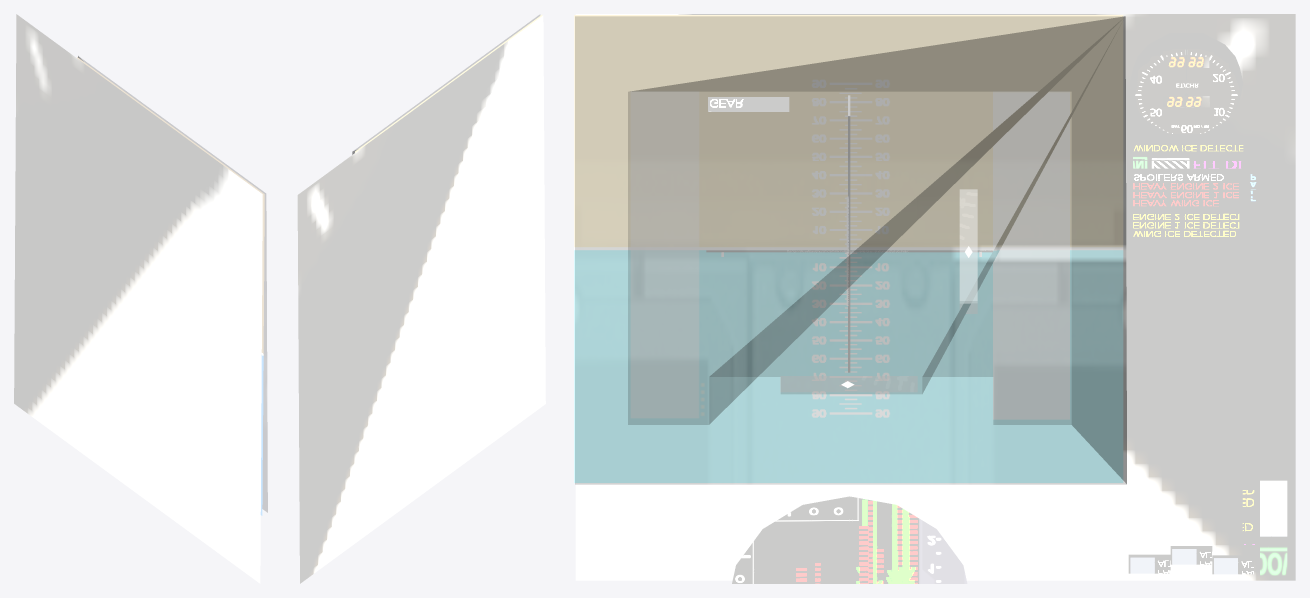
The model's file is pfd2.glb.
3 views of the same model, side by side, from view 1: azimuth 30°, elevation 25°; view 2: azimuth 150°, elevation 25°; view 3: azimuth 270°, elevation 25° (orthographic). The views are drawn at different scales.
Parts seen in each view (by area): view 1: box, horizon, pfd; view 2: box, horizon; view 3: pfd, horizon, box, Alt1, ASI, Alt6, Hsi, Plane.001, flaps, gsscale, loc.scale, flt.dir (+4 smaller).
Boxes of the visible parts, x1,y1,x2,y2 form: box: (14,14,262,583); horizon: (77,57,264,515); pfd: (78,56,267,511); box: (297,15,545,583); horizon: (355,14,542,152); pfd: (575,16,1126,484); horizon: (574,15,1123,482); box: (575,14,1295,580); Alt1: (993,93,1069,419); ASI: (631,91,704,417); Alt6: (993,91,1069,418); Hsi: (732,496,967,583); Plane.001: (1129,32,1243,133); flaps: (1260,480,1287,575); gsscale: (959,189,977,313); loc.scale: (780,376,917,391); flt.dir: (708,97,789,111).
Size of the model in its own units: 0.00625 by 0.303 by 0.3483.
Materials: 11 (9 with a texture image).
